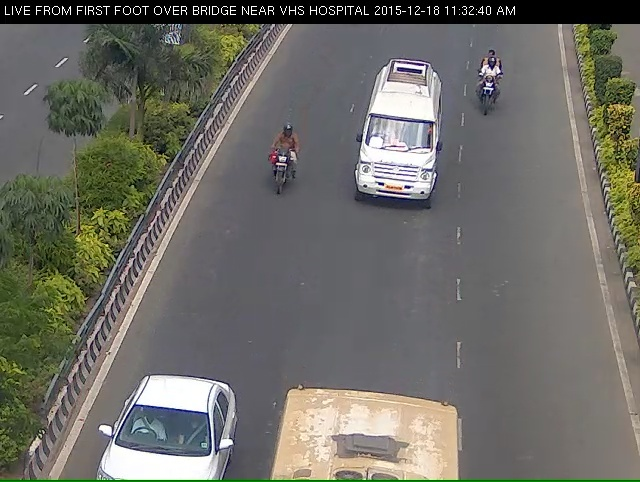Bus: (347, 64, 448, 243)
Car: (72, 405, 246, 482)
Person: (465, 58, 514, 135), (252, 131, 296, 214)
